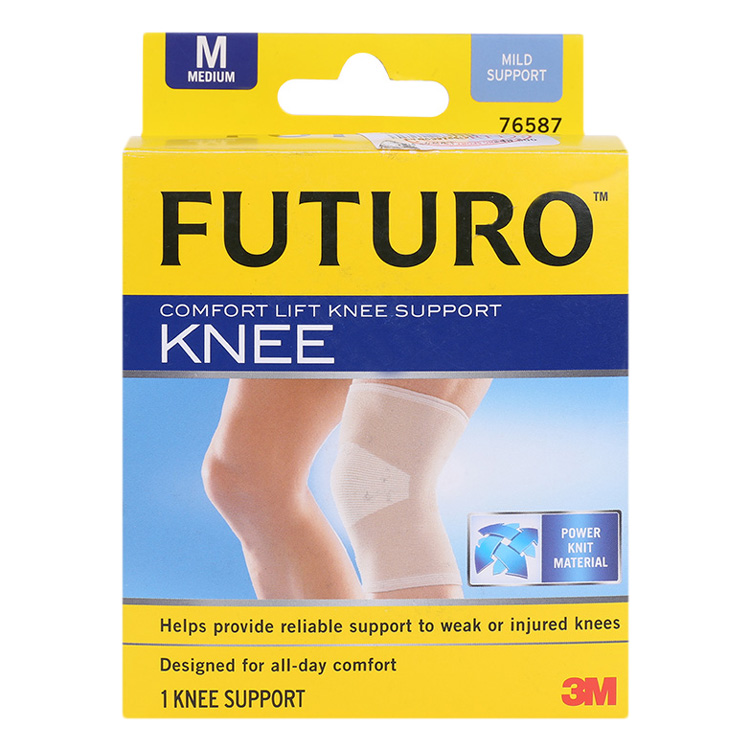3M: (559, 671, 620, 711)
